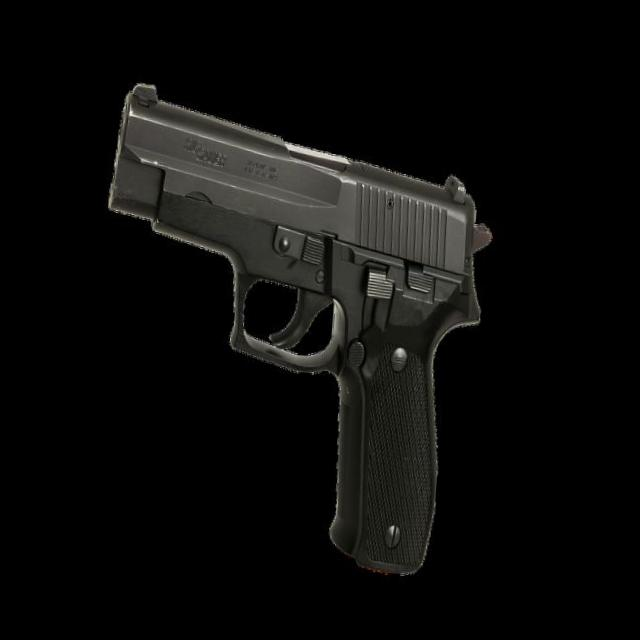Gun: (109, 84, 490, 574)
